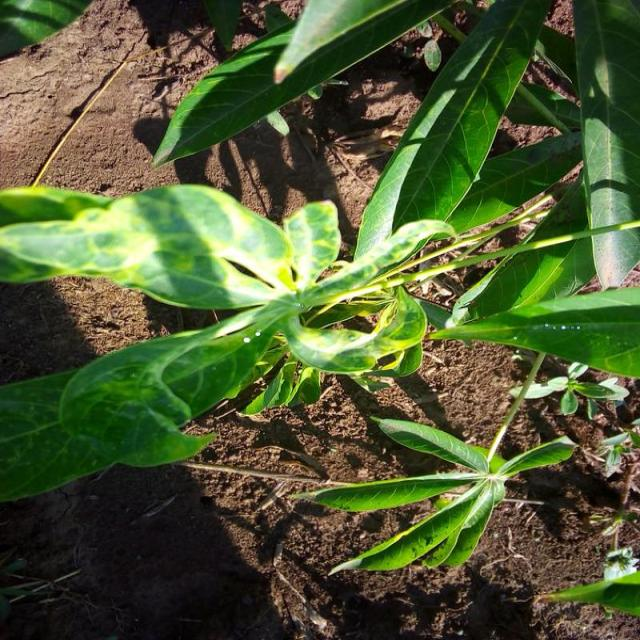cassava leaf: (1, 180, 458, 502), (354, 0, 553, 279), (152, 0, 454, 170)
